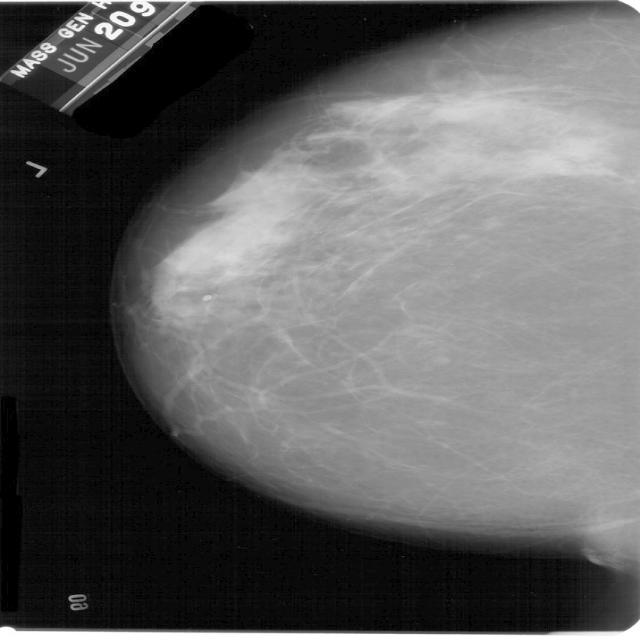tumour: (536, 158, 581, 177)
